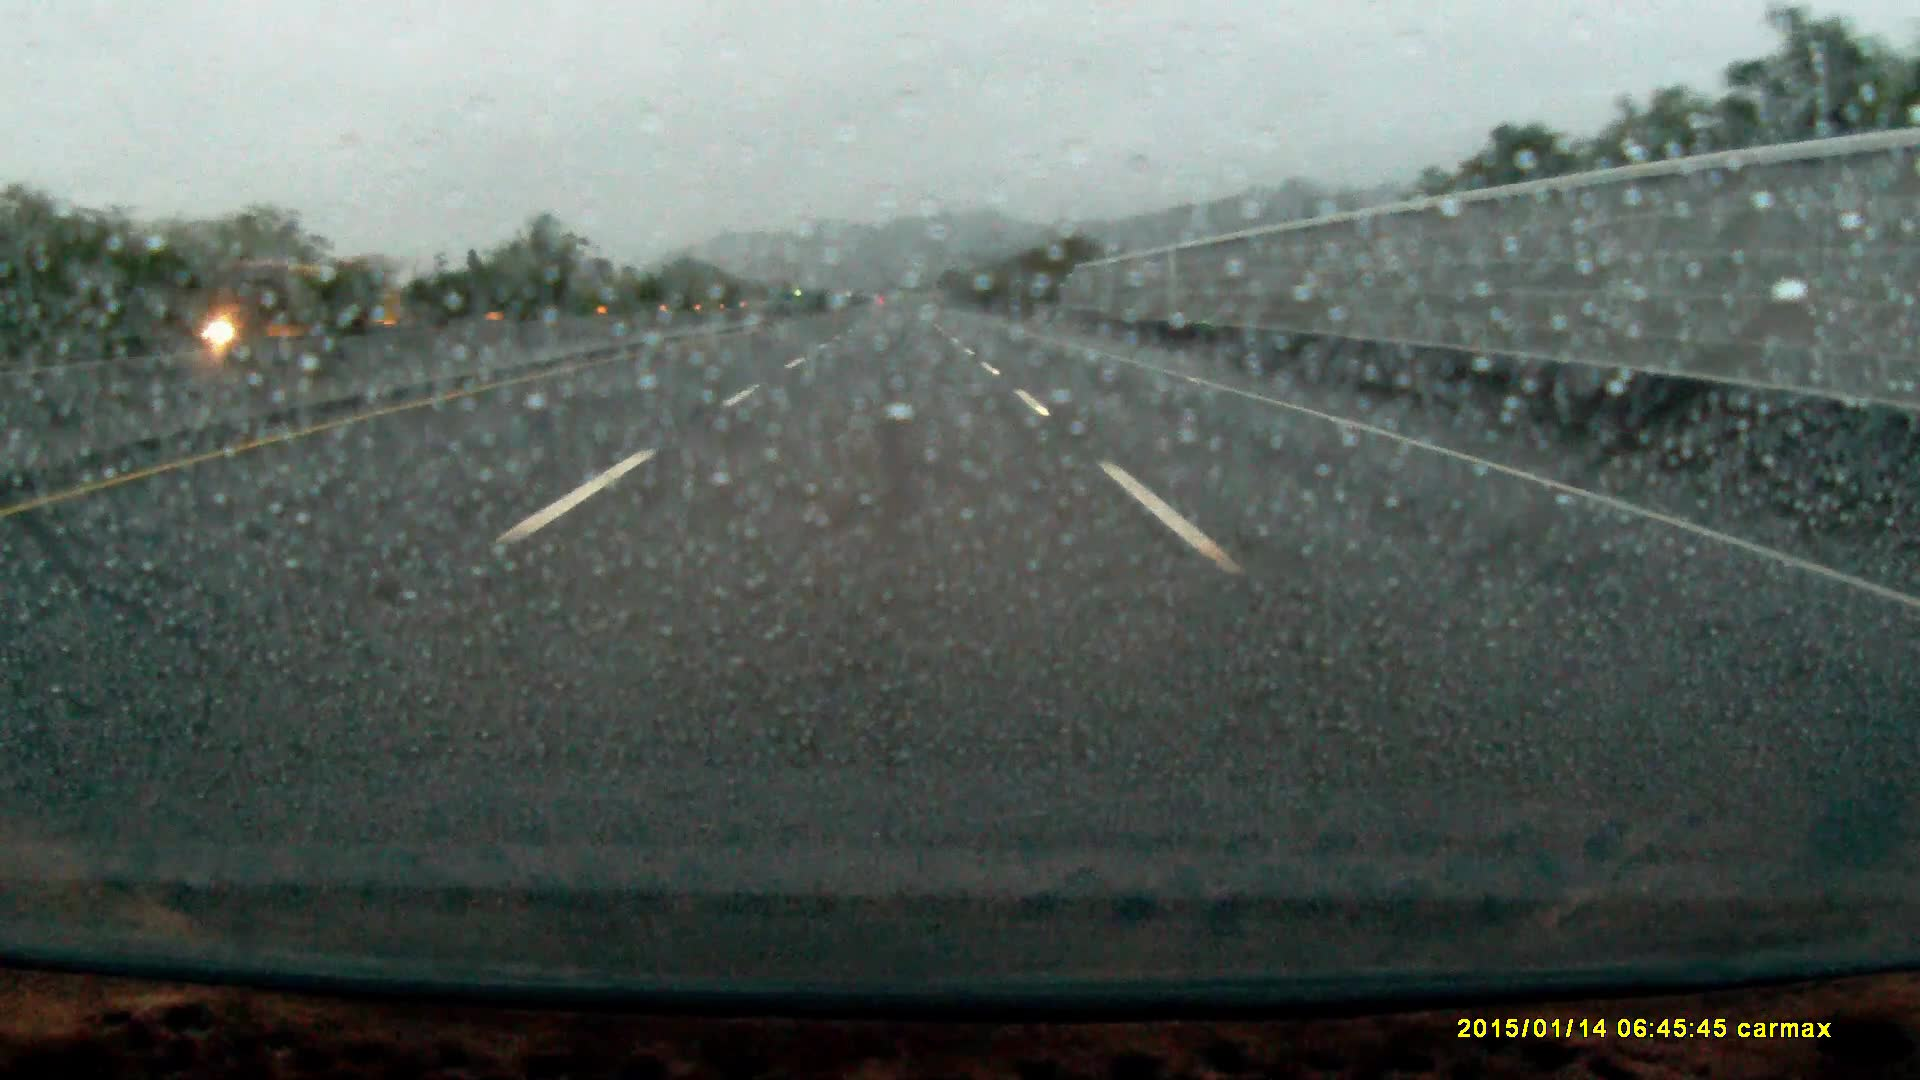vehicle: (171, 258, 385, 367)
